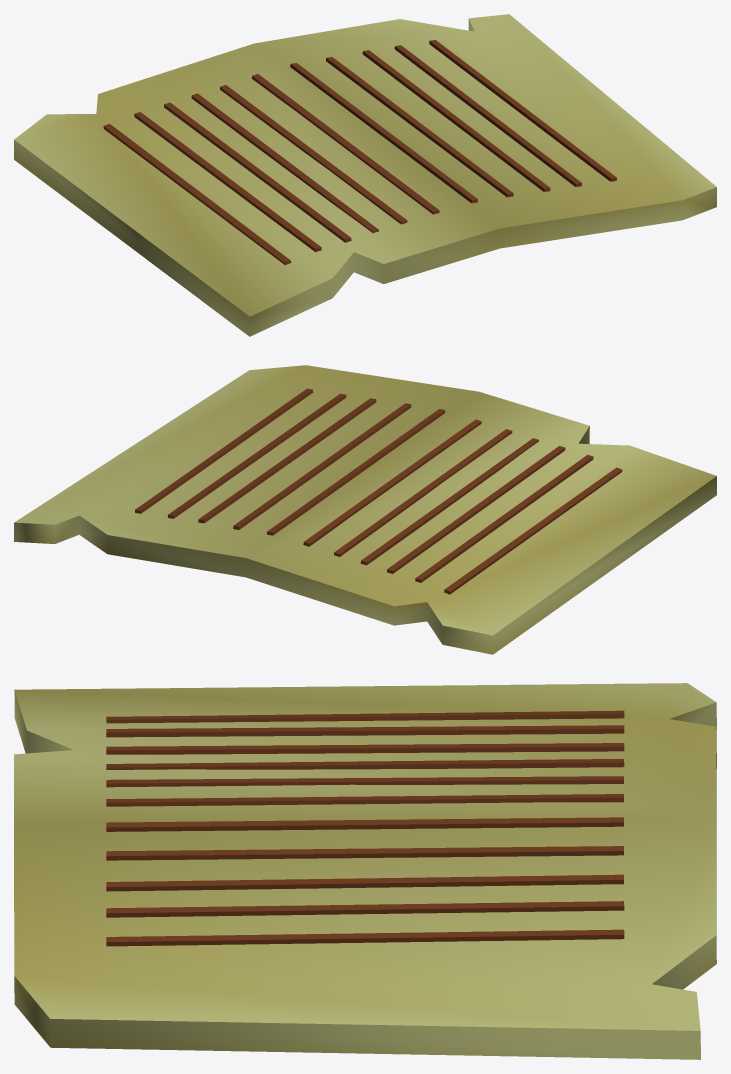
The model's file is BookPage.fbx.
The picture shows the model from 3 angles, top to bottom: view 1: azimuth 30°, elevation 25°; view 2: azimuth 150°, elevation 25°; view 3: azimuth 270°, elevation 25°; orthographic projection. The views are drawn at different scales.
Visible parts, largest first — view 1: BookPage; view 2: BookPage; view 3: BookPage.
Part boxes in pixels (x1,y1,x2,y2): BookPage: (14,14,716,336); BookPage: (14,365,716,654); BookPage: (14,683,716,1059).
Bounding box in the file's own units: 0.7869 × 0.0825 × 0.6714.
